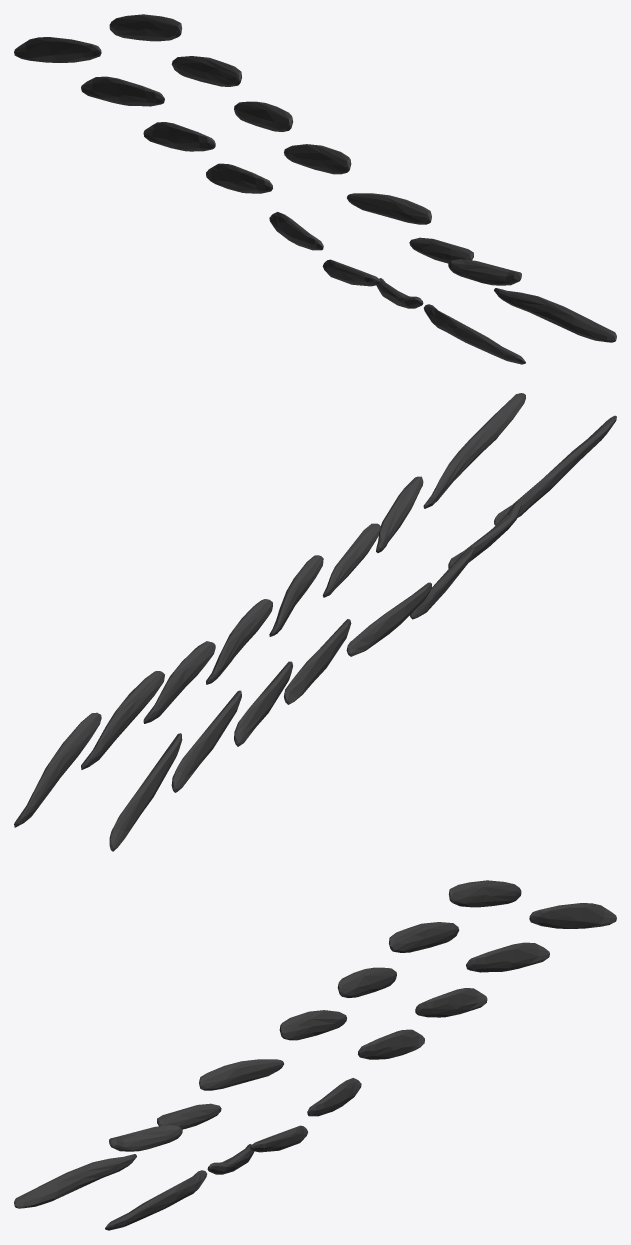
The model's file is m_intertransversarii_lumborum.glb.
3 renders of one model, top to bottom at view 1: azimuth 30°, elevation 25°; view 2: azimuth 150°, elevation 25°; view 3: azimuth 330°, elevation 25°, orthographic.
Visible parts, largest first — view 1: m_intertransversarii_lumborum; view 2: m_intertransversarii_lumborum; view 3: m_intertransversarii_lumborum.
Boxes of the visible parts, x1,y1,x2,y2 form: m_intertransversarii_lumborum: (14, 14, 616, 364); m_intertransversarii_lumborum: (14, 393, 616, 851); m_intertransversarii_lumborum: (14, 880, 616, 1230).
Bounding box in the file's own units: 0.000797 × 0.000425 × 0.00588.
Materials: 1 (1 with a texture image).
